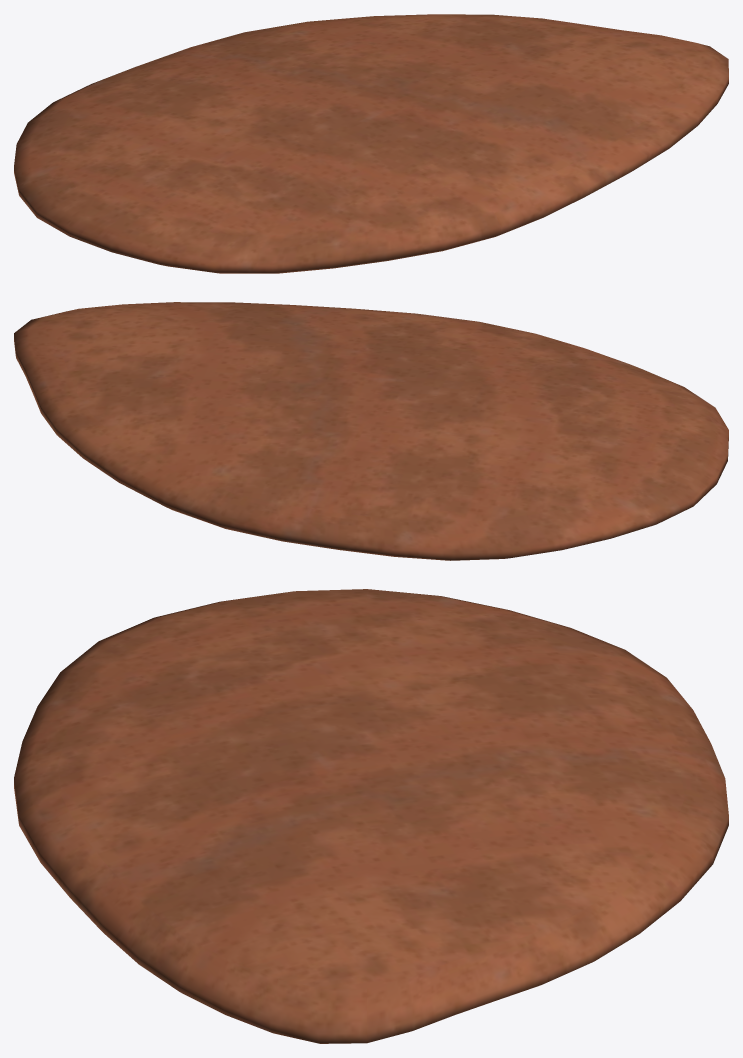
File: red_sandstone_02.glb
The picture shows the model from 3 angles, top to bottom: view 1: azimuth 30°, elevation 25°; view 2: azimuth 150°, elevation 25°; view 3: azimuth 270°, elevation 25°; orthographic projection. The views are drawn at different scales.
Parts seen in each view (by area): view 1: red_sandstone_02; view 2: red_sandstone_02; view 3: red_sandstone_02.
Part boxes in pixels (box(x1,y1,x2,y2)): red_sandstone_02: box(14, 14, 728, 273); red_sandstone_02: box(14, 302, 728, 560); red_sandstone_02: box(14, 589, 728, 1043).
Bounding box in the file's own units: 0.086 × 0.0083 × 0.0584.
1 material, 1 textured.
